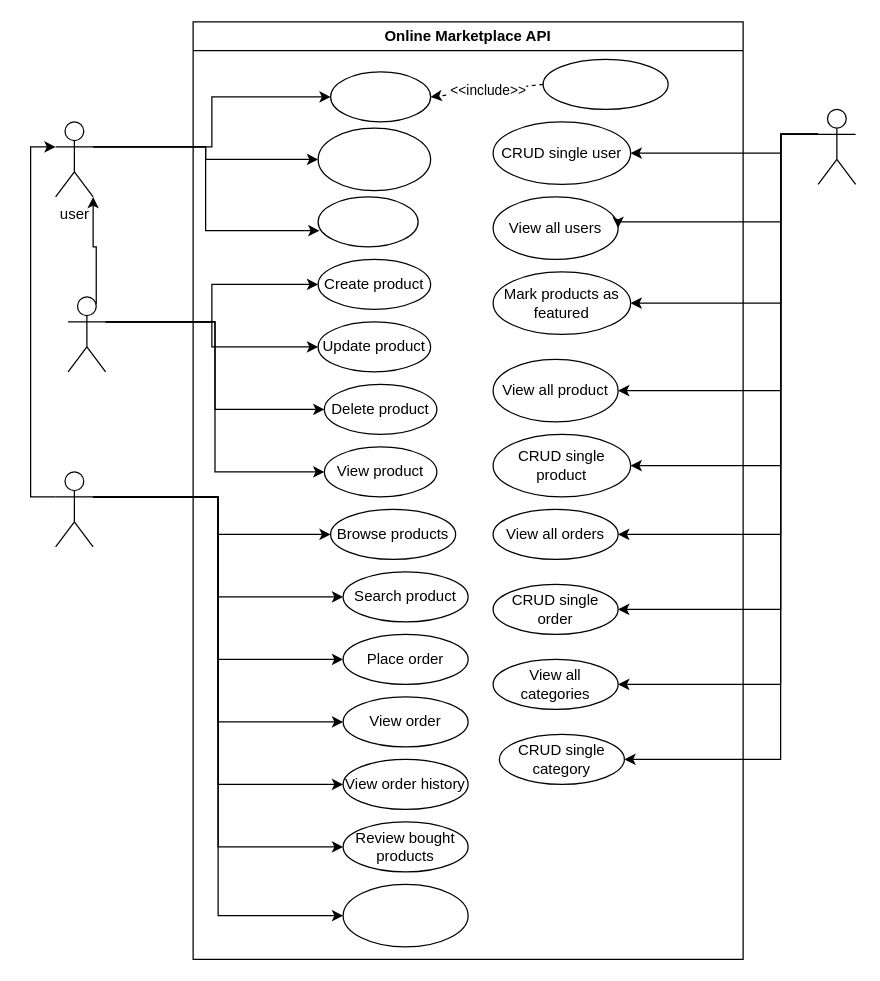
The diagram is 880 pixels wide and 981 high, and some of its shapes have lost their labels. The centre of each missing label's shape, as x and y in pixels:
"Admin" goes at point 836,146.
"Buyer" goes at point 73,509.
"Login" goes at point 367,221.
"Manage Profile" goes at point 374,159.
"Receive order Email Notifications" goes at point 405,915.
"Register" goes at point 380,96.
"Seller" goes at point 86,334.
"Verify email" goes at point 605,83.
